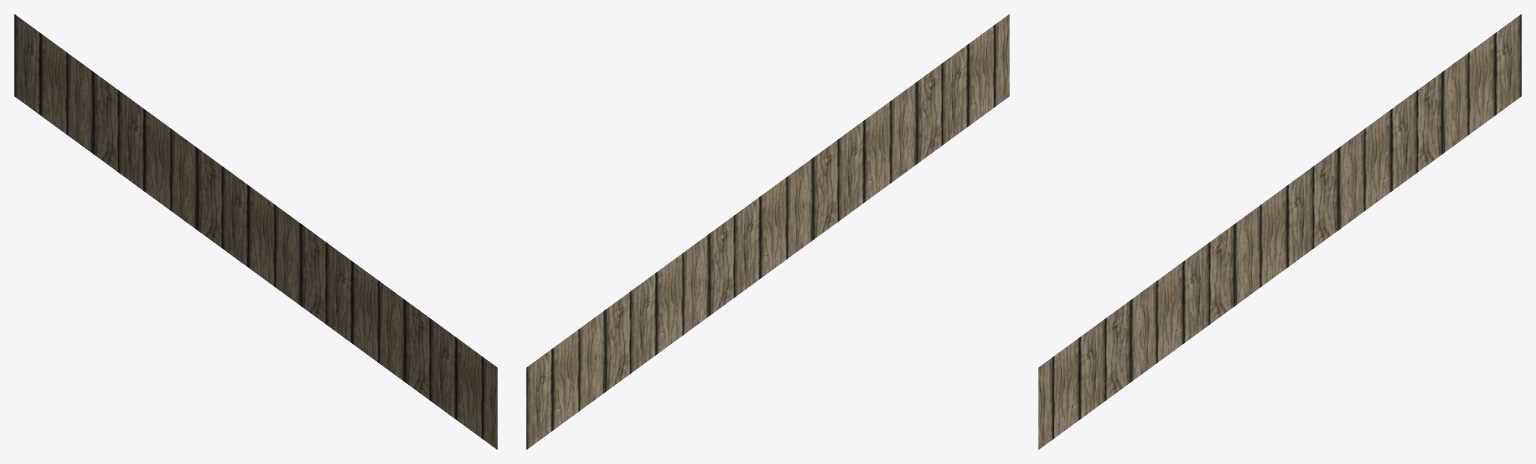
Rendered from LAKETOWN_PUB_PS_PUB_FLOORSIDE83837.fbx.
The picture shows the model from 3 angles, left to right: view 1: azimuth 30°, elevation 25°; view 2: azimuth 150°, elevation 25°; view 3: azimuth 330°, elevation 25°; orthographic projection.
Parts seen in each view (by area): view 1: LAKETOWN_PUB_PS_PUB_FLOORSIDE83837; view 2: LAKETOWN_PUB_PS_PUB_FLOORSIDE83837; view 3: LAKETOWN_PUB_PS_PUB_FLOORSIDE83837.
Part boxes in pixels (bbox=[...]): LAKETOWN_PUB_PS_PUB_FLOORSIDE83837: bbox=[14, 14, 497, 449]; LAKETOWN_PUB_PS_PUB_FLOORSIDE83837: bbox=[526, 14, 1009, 449]; LAKETOWN_PUB_PS_PUB_FLOORSIDE83837: bbox=[1038, 14, 1521, 449].
Bounding box in the file's own units: 0.0114 × 8087 × 85879.
1 material, 1 textured.
